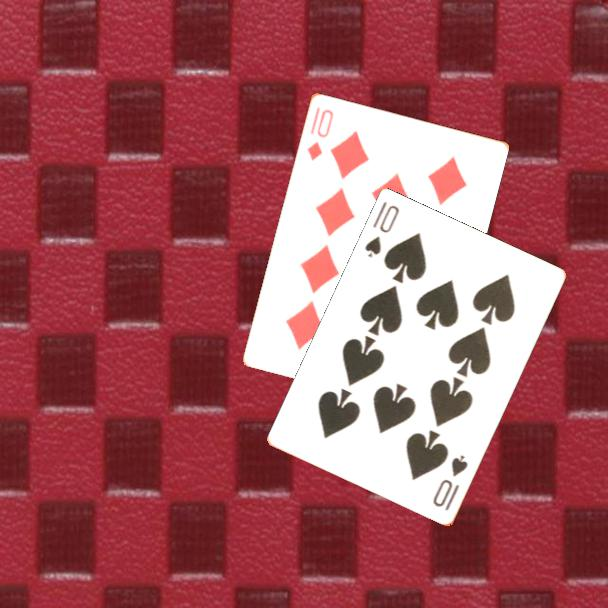d10: (303, 105, 336, 163)
s10: (430, 451, 471, 514), (362, 198, 402, 261)
